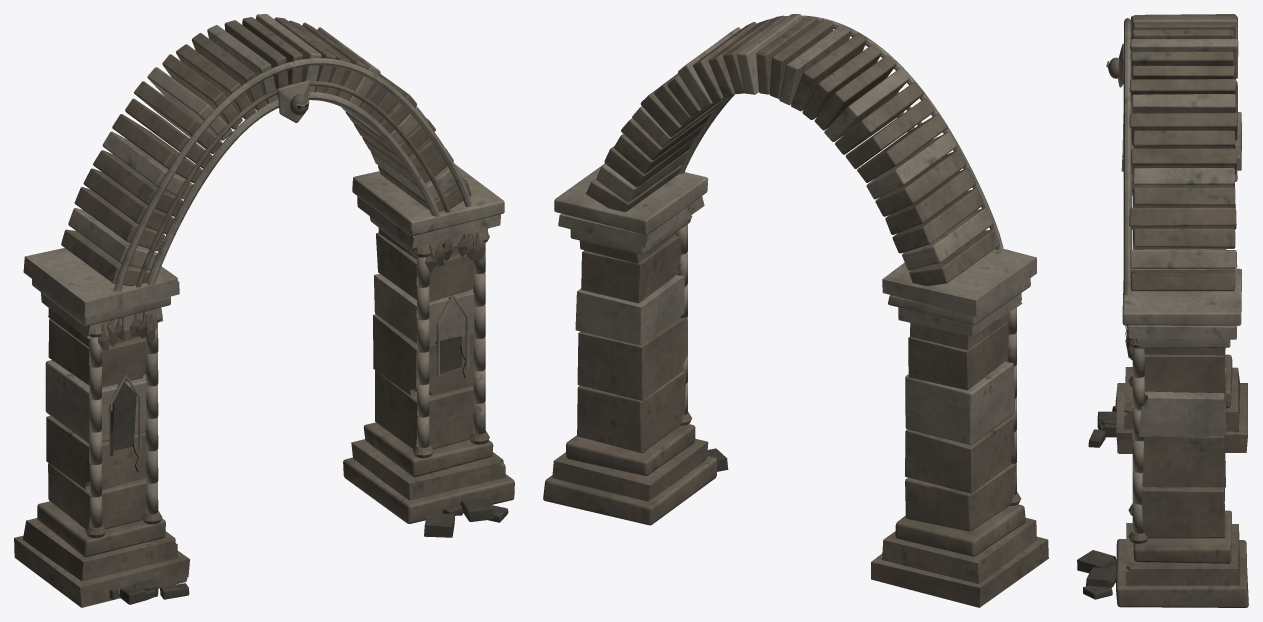
File: arch.glb
3 views of the same model, side by side, from view 1: azimuth 30°, elevation 25°; view 2: azimuth 150°, elevation 25°; view 3: azimuth 270°, elevation 25° (orthographic). The views are drawn at different scales.
Visible parts, largest first — view 1: Body_Baked.002; view 2: Body_Baked.002; view 3: Body_Baked.002.
Boxes of the visible parts, x1,y1,x2,y2 form: Body_Baked.002: (14, 14, 514, 607); Body_Baked.002: (543, 14, 1048, 607); Body_Baked.002: (1077, 14, 1248, 607).
Size of the model in its own units: 4.51 by 4.86 by 1.58.
1 material, 1 textured.
